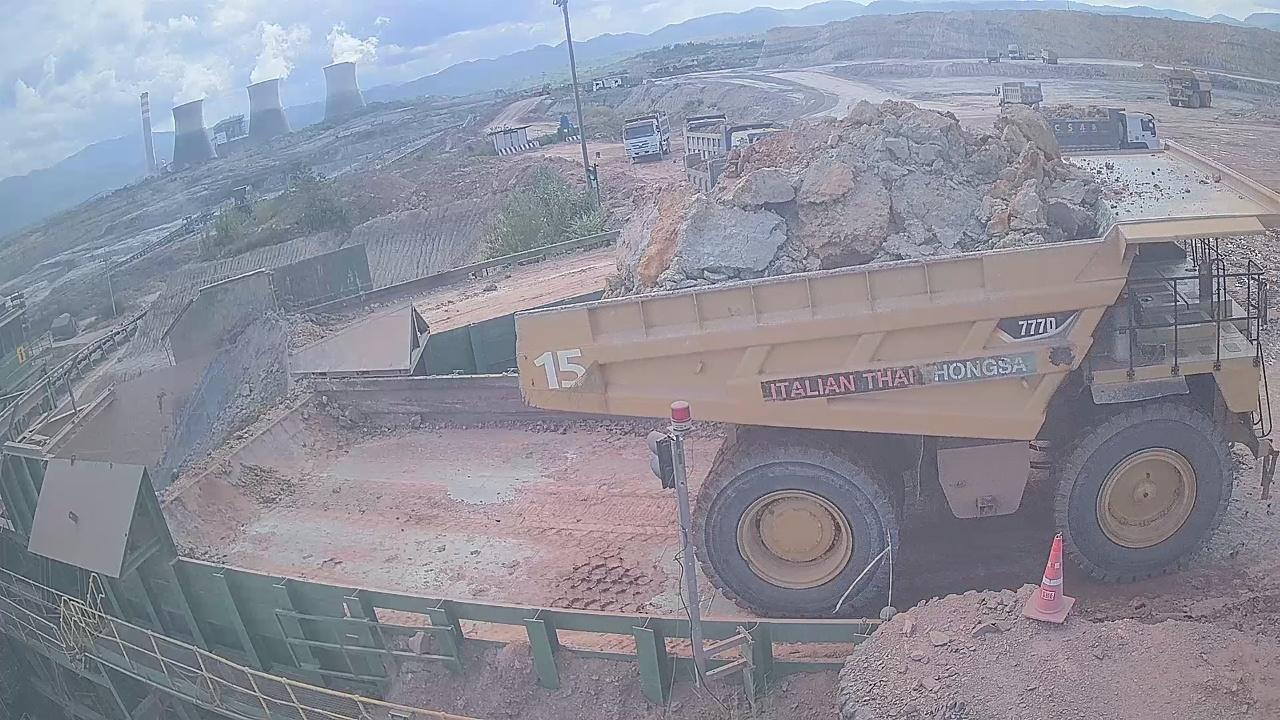company: (751, 357, 1053, 399)
full_load: (621, 99, 1120, 293)
mining_truck: (511, 85, 1278, 620)
tail_number: (526, 342, 603, 398)
truck_size: (992, 308, 1084, 342)
